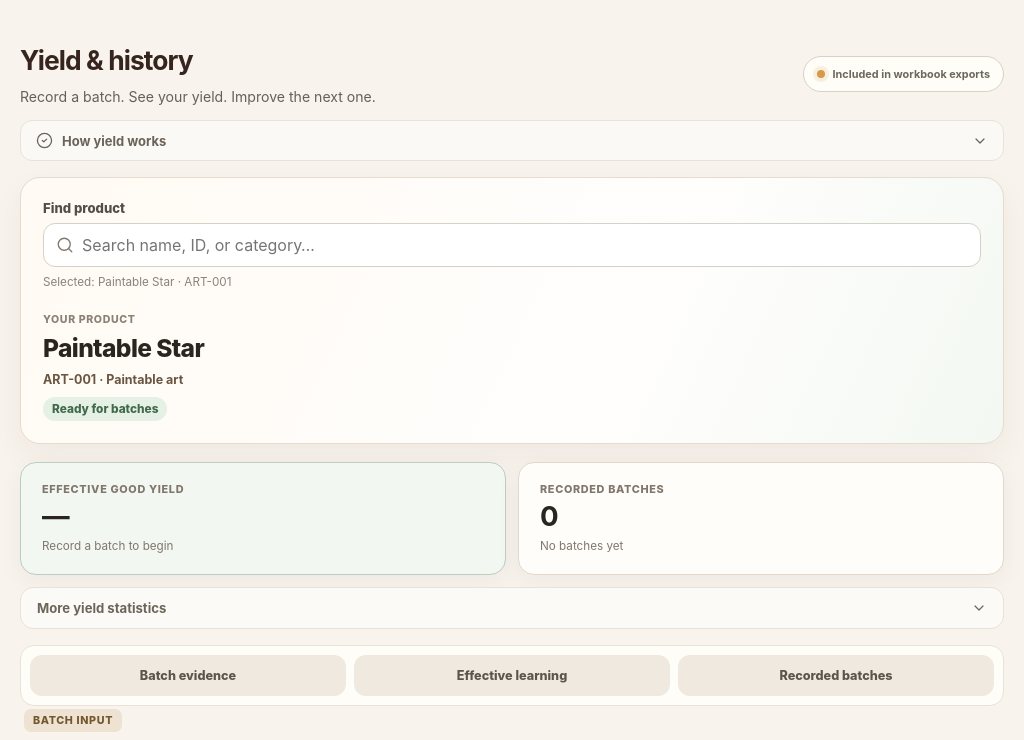
Test: Yield workspace UI/UX › keeps quick instructions and secondary statistics collapsed while leaving batch recording available
Expected: the element with class "yield-guide-disclosure" is shown, [20,120,1004,161]
Expected: the element with class "yield-secondary-insights" is shown, [20,587,1004,629]
Click the heading "How yield works".
click(114, 141)  # box [36,132,988,149]
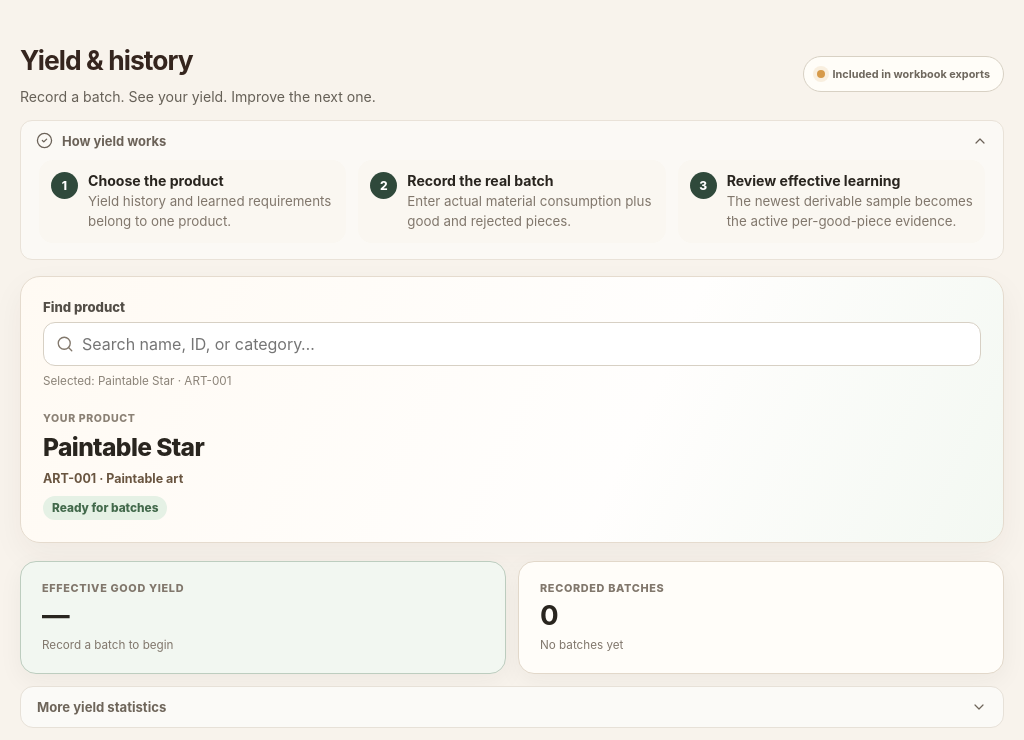
Click the heading "More yield statistics".
click(102, 707)  # box [37,699,987,715]
(page scrolled)
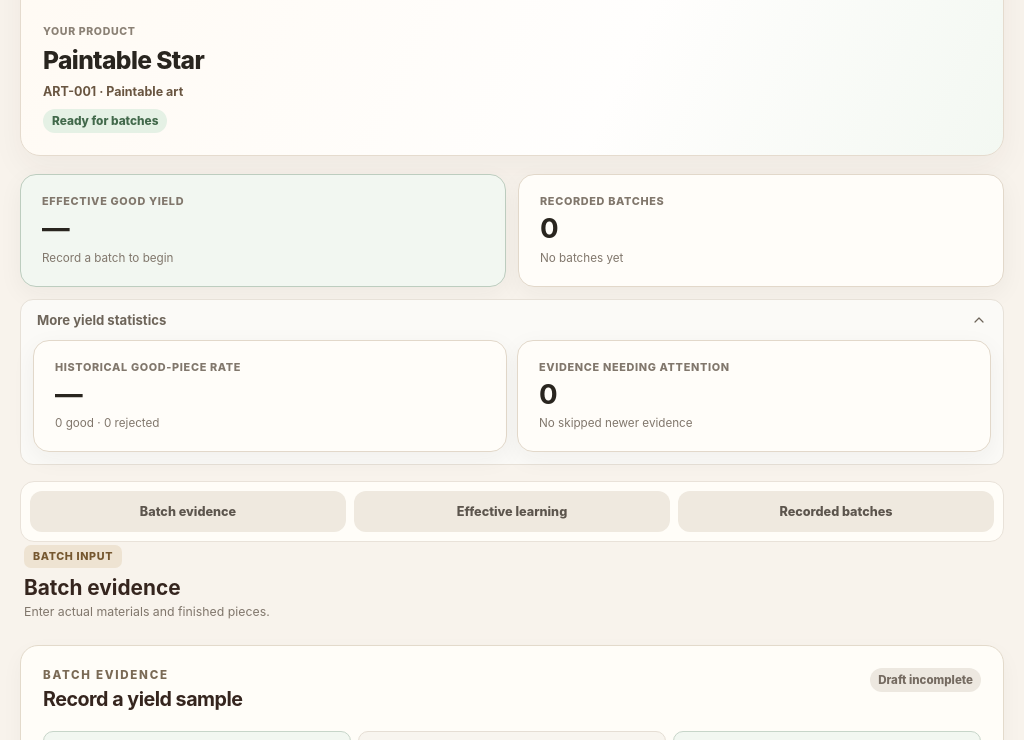
Result: the element with class "yield-secondary-insights" shows "Historical good-piece rate" at [55,360,241,374]
